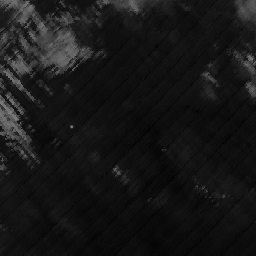Target: (68, 123, 74, 129)
